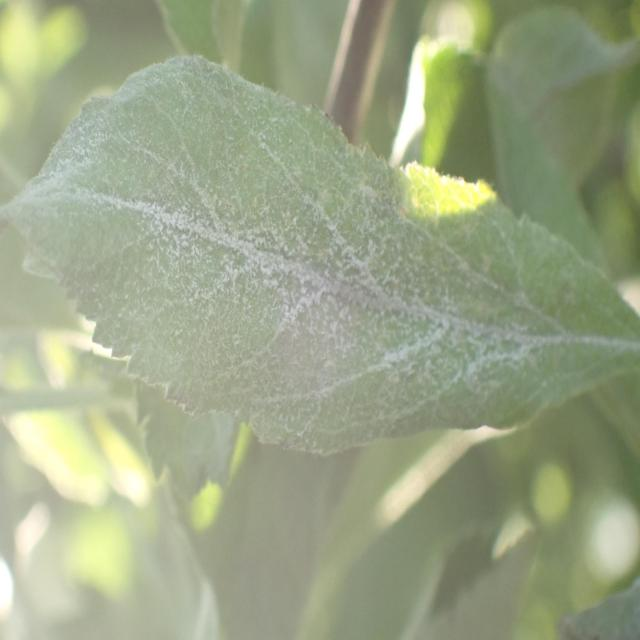Powdery_mildew: (19, 36, 640, 459)
